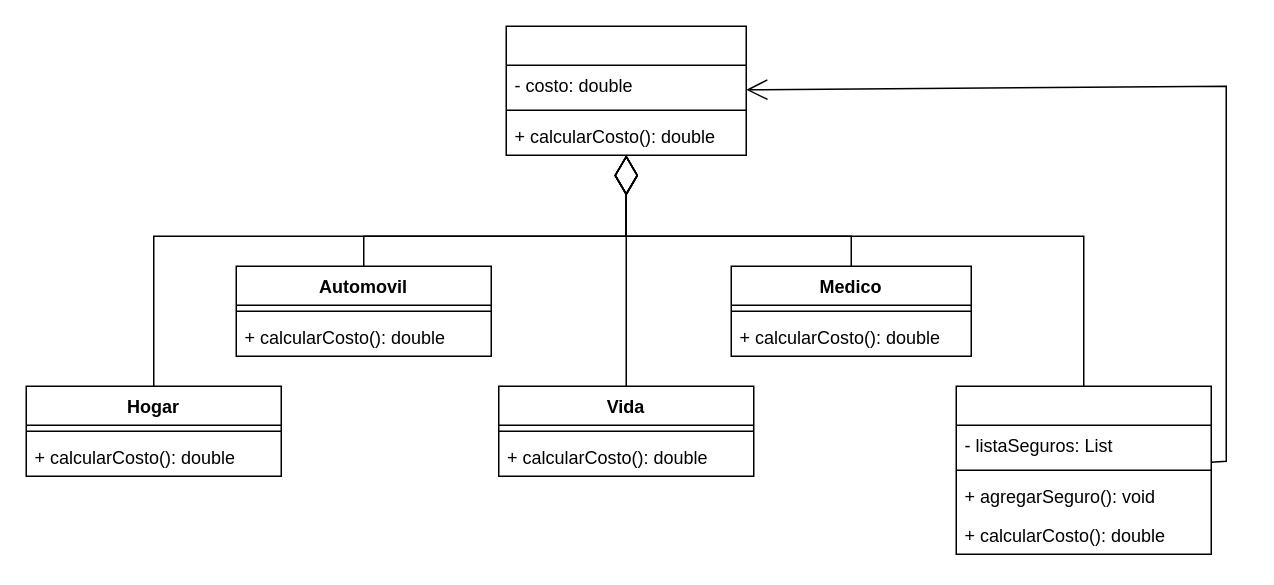
Some shapes in this 1274 by 585 pixel diagram are drawn without their labels. The shapes that lost their labels are listed below. From the top down, each one's box as (x1, y1, x2, y2) in pixels, then its label:
(505, 25, 746, 155): Seguro
(955, 385, 1211, 554): Paquete
